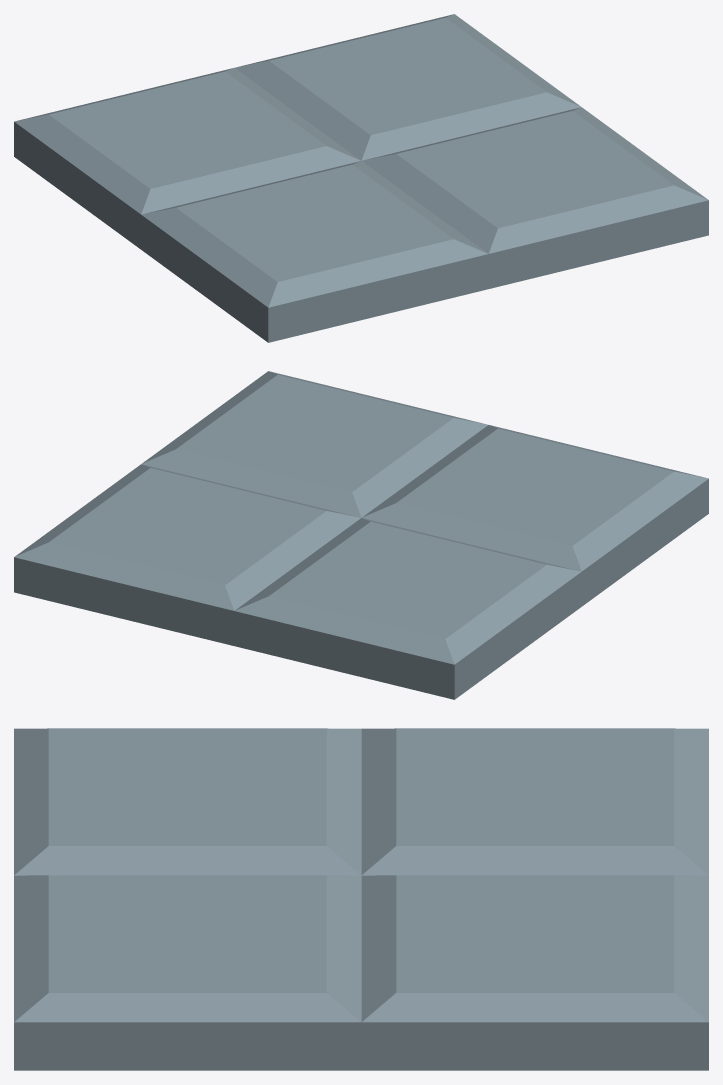
Rendered from floor1.gltf.
3 views of the same model, one above another, from view 1: azimuth 30°, elevation 25°; view 2: azimuth 150°, elevation 25°; view 3: azimuth 270°, elevation 25° (orthographic). The views are drawn at different scales.
Parts seen in each view (by area): view 1: Floor; view 2: Floor; view 3: Floor.
Part boxes in pixels (bbox=[...]): Floor: bbox=[14, 14, 708, 342]; Floor: bbox=[14, 371, 708, 699]; Floor: bbox=[14, 728, 708, 1070].
Bounding box in the file's own units: 1 × 0.1 × 1.
